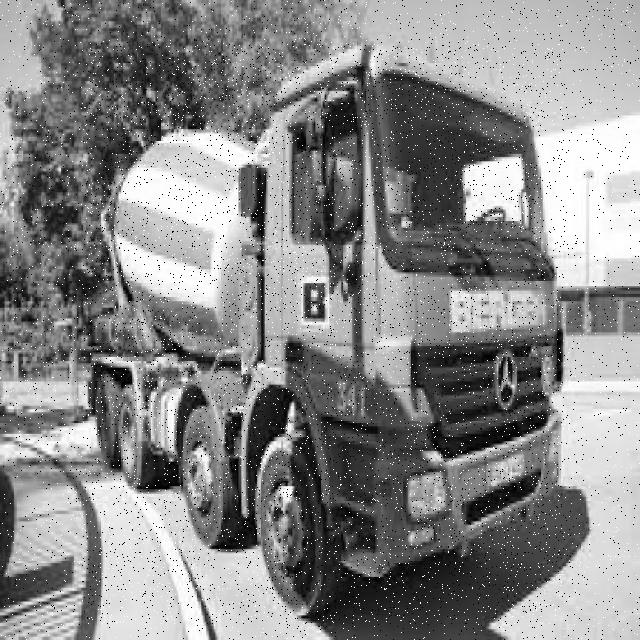Concrete Mixer: (83, 44, 565, 624)
